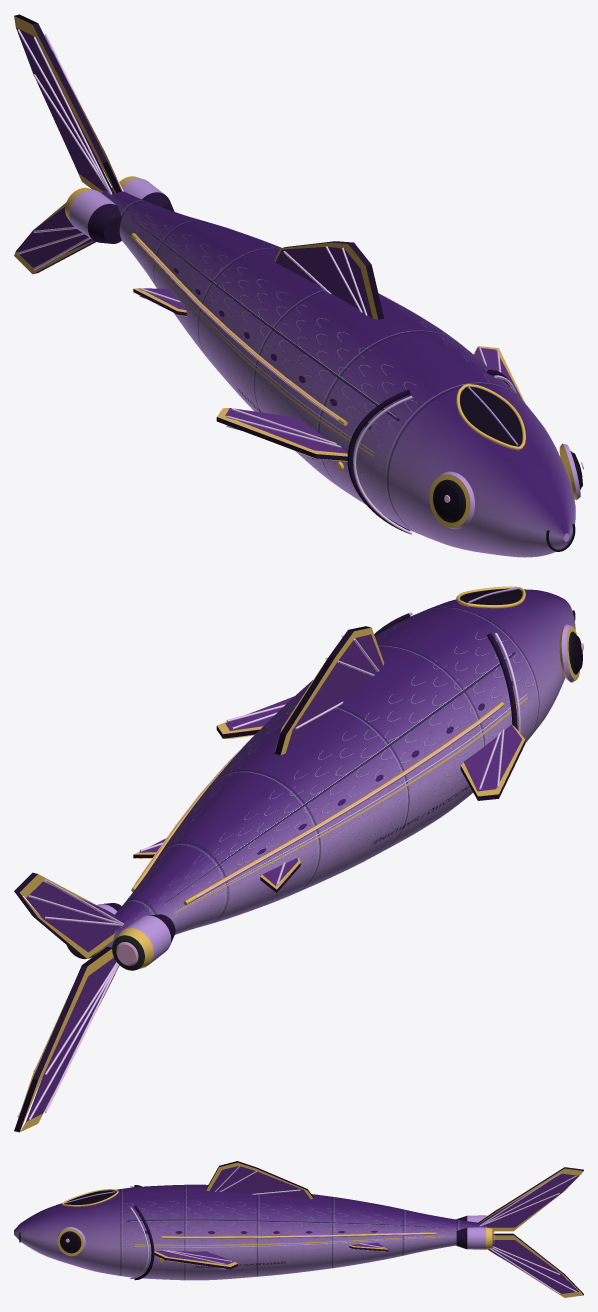
3 views of the same model, one above another, from view 1: azimuth 30°, elevation 25°; view 2: azimuth 150°, elevation 25°; view 3: azimuth 270°, elevation 25° (orthographic). The views are drawn at different scales.
Parts seen in each view (by area): view 1: sardine_hull; view 2: sardine_hull; view 3: sardine_hull.
Part boxes in pixels (left/top/right/bottom): sardine_hull: left=14, top=14, right=583, bottom=557; sardine_hull: left=14, top=586, right=583, bottom=1132; sardine_hull: left=14, top=1161, right=583, bottom=1297.
Size of the model in its own units: 4.8 by 4.25 by 16.2.
Materials: 1 (1 with a texture image).
